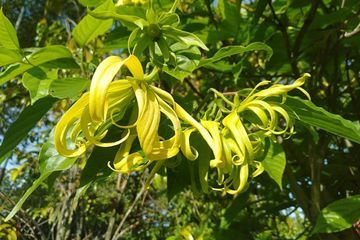ylang-ylang: (208, 69, 303, 175), (88, 54, 172, 151)
